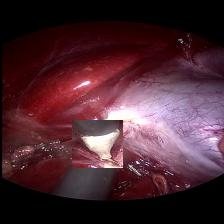Hook: (71, 120, 122, 168)
